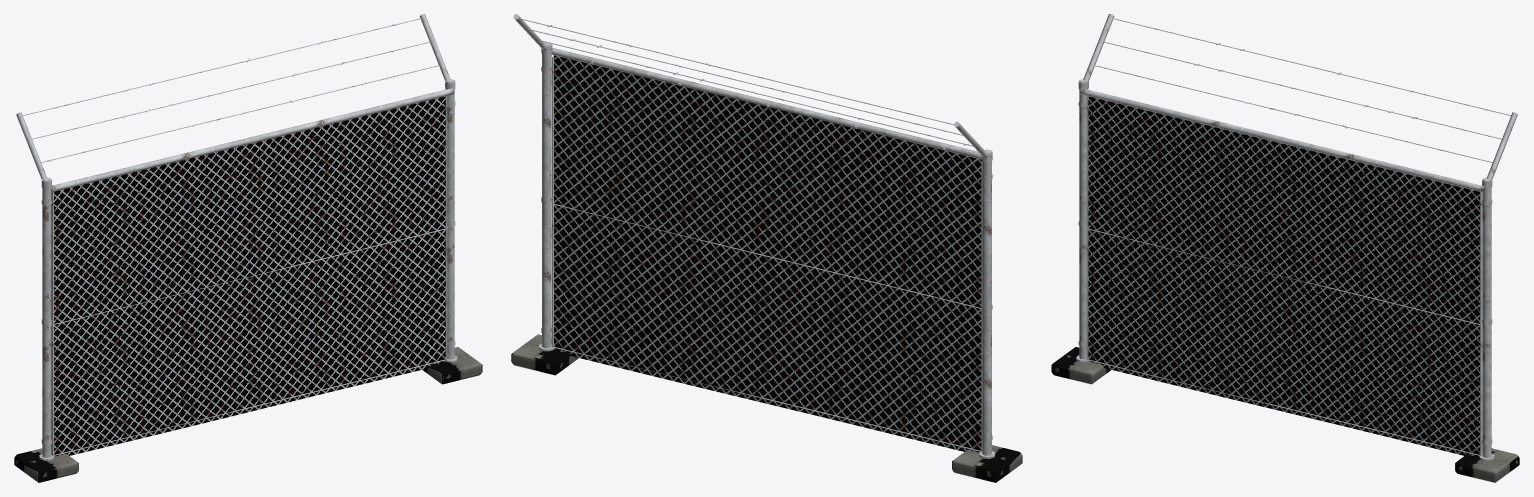
Rendered from fence_panel.glb.
The picture shows the model from 3 angles, left to right: view 1: azimuth 30°, elevation 25°; view 2: azimuth 150°, elevation 25°; view 3: azimuth 330°, elevation 25°; orthographic projection. The views are drawn at different scales.
Visible parts, largest first — view 1: fence_panel; view 2: fence_panel; view 3: fence_panel.
Part boxes in pixels (x1=…): fence_panel: x1=14, y1=14, x2=482, y2=482; fence_panel: x1=511, y1=14, x2=1022, y2=482; fence_panel: x1=1051, y1=14, x2=1519, y2=482.
Bounding box in the file's own units: 3.32 × 2.4 × 0.5334.
3 materials, 3 textured.
